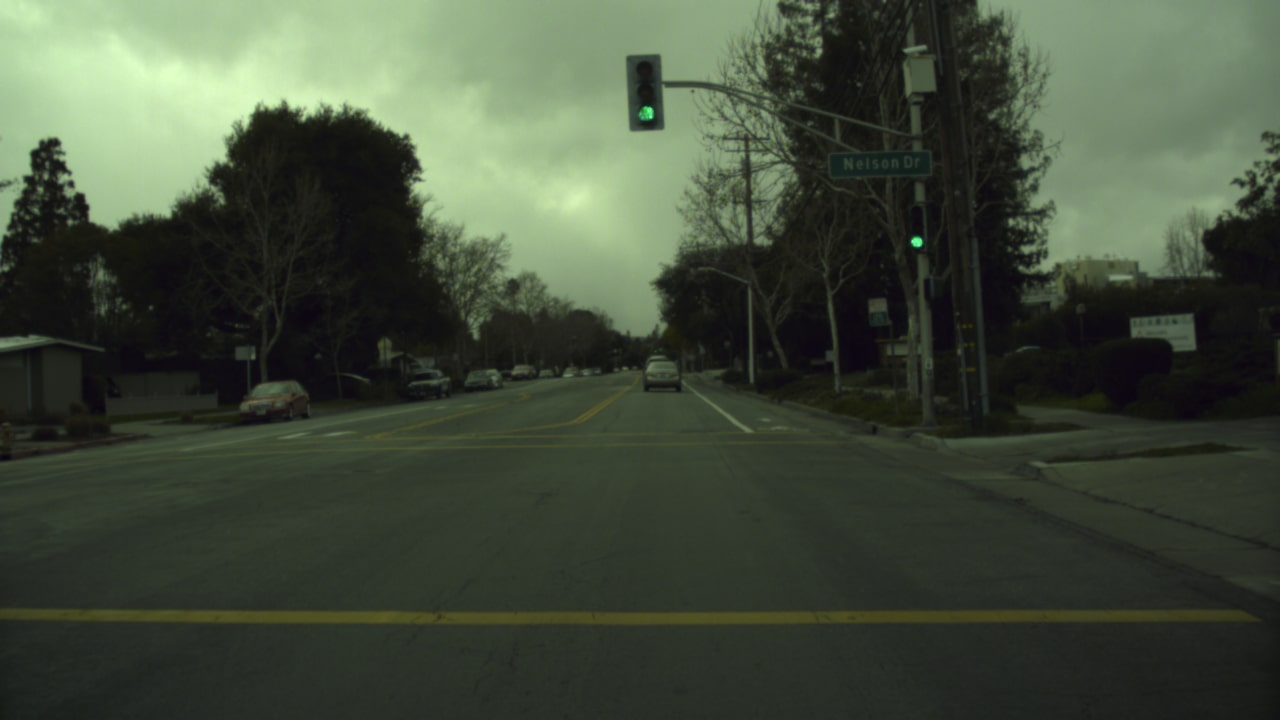signal: (630, 58, 660, 127), (906, 228, 927, 253)
